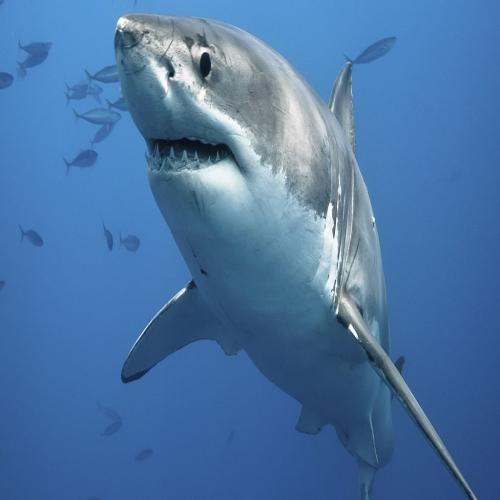shark-endangered: (109, 7, 402, 474)
